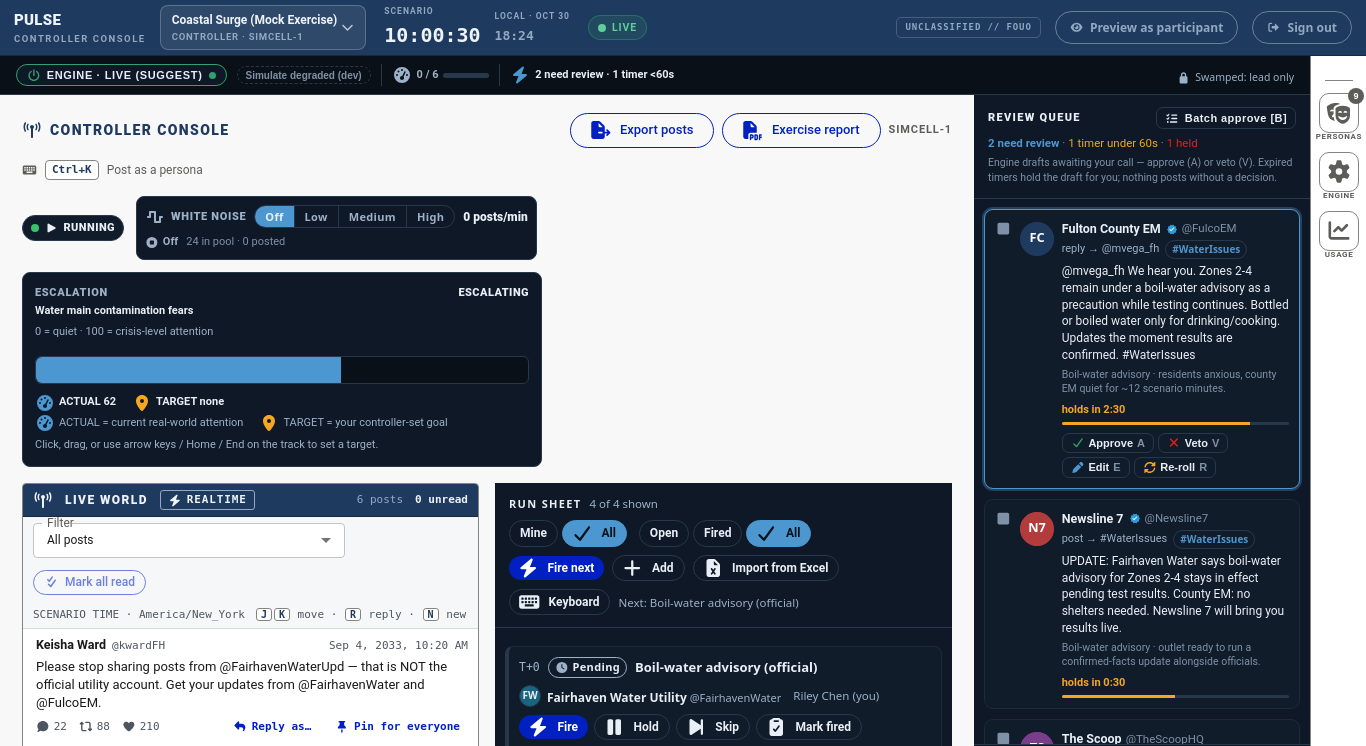
ControllerConsoleRoute: PausePill reaches the run sheet (mock pause bridge) › PAUSE INJECTS shows the suspended banner; Resume clears it
The image size is (1366, 746).
Click the button with test id "pause-pill" at (73, 228), box [22,215,124,241]
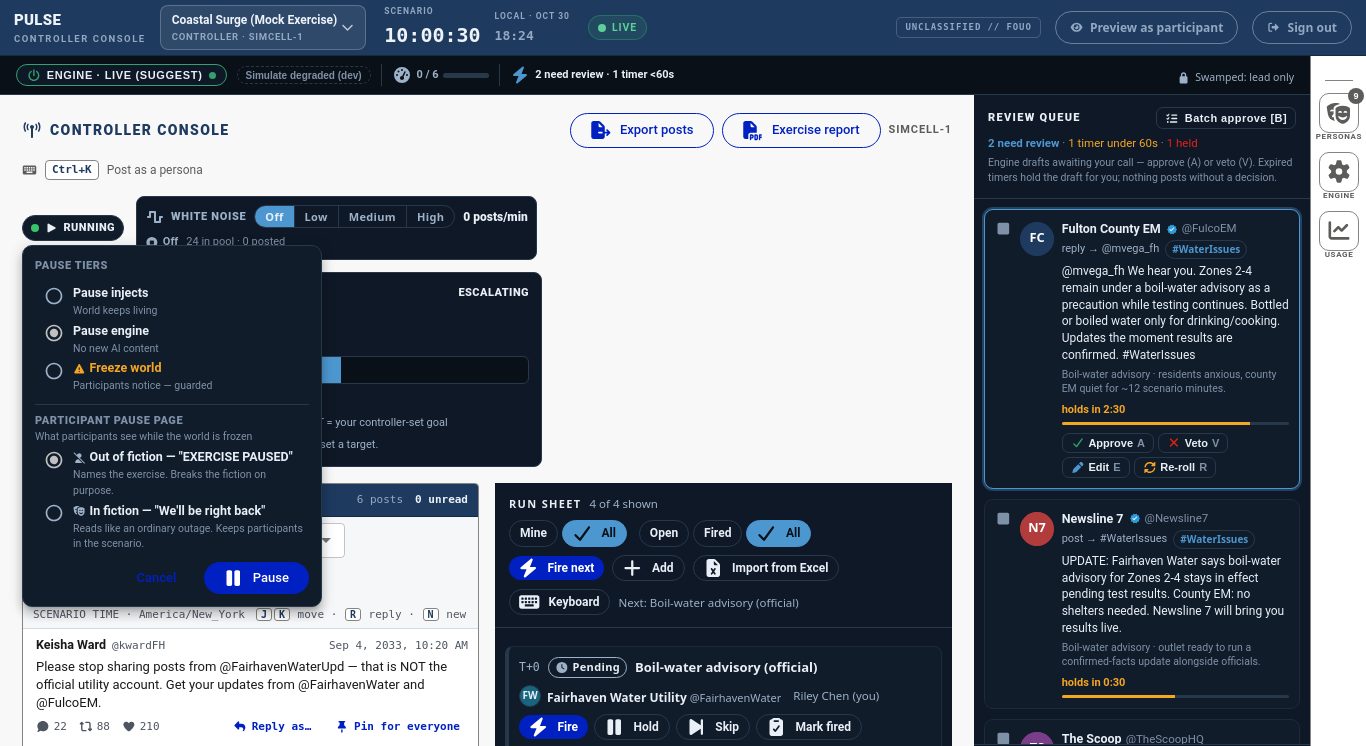
Click the radio button with test id "pause-tier-option-injects" at (101, 301), box [44,285,158,317]
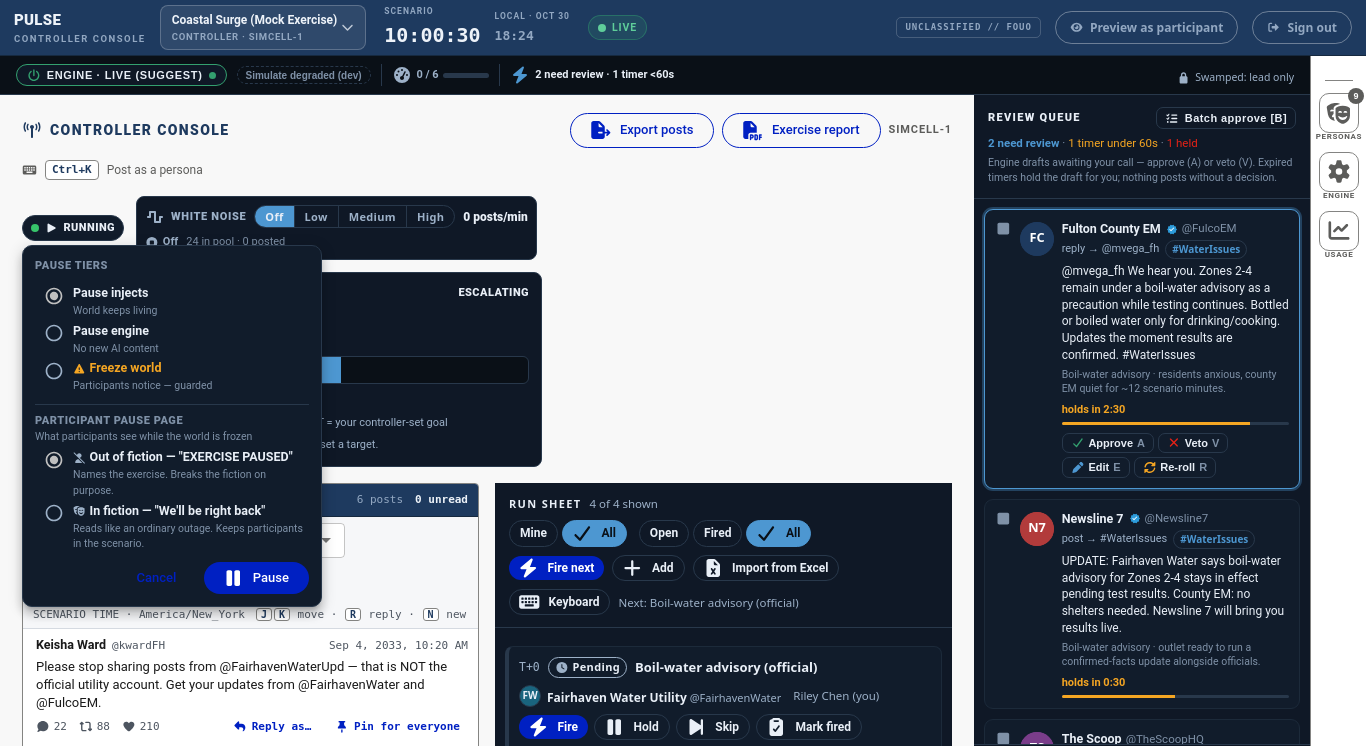
Click the button with test id "pause-apply" at (257, 578), box [204,562,309,594]
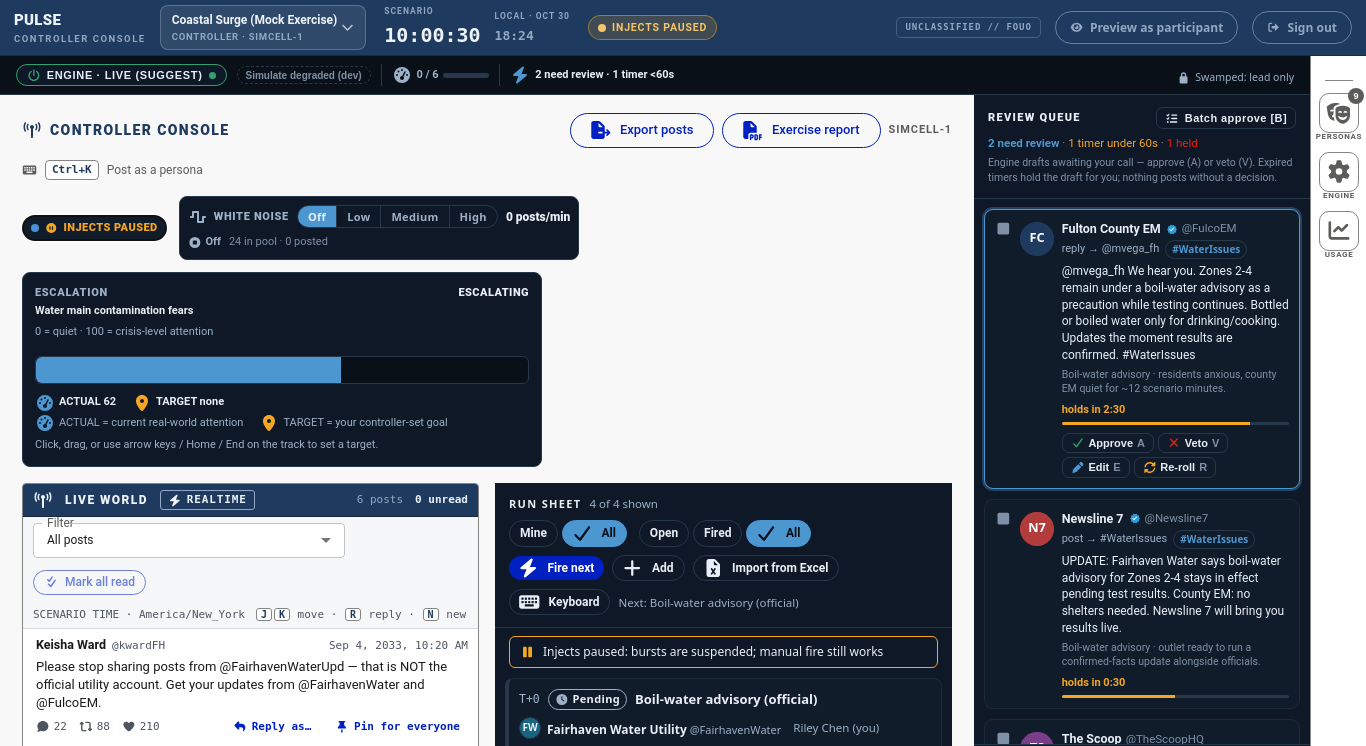
Expected: the button with aria-label "Fire next pending item" is enabled, [509,556,604,580]
Expected: the message with test id "banner-injects-paused" reads "Injects paused: bursts are suspended; manual fire still works", [543,643,883,660]
Click the button with test id "pause-pill" at (94, 228), box [22,215,167,241]
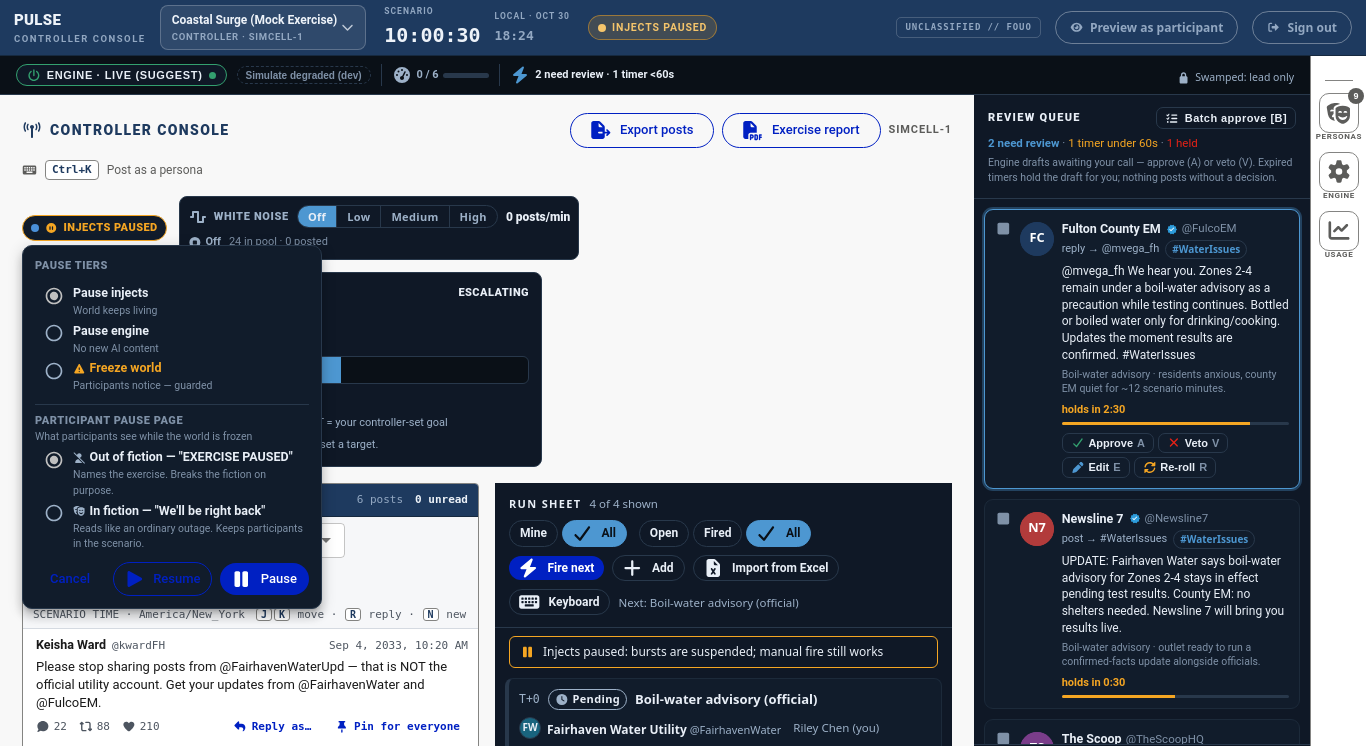
Click the button with test id "pause-resume" at (163, 579), box [113,562,212,596]
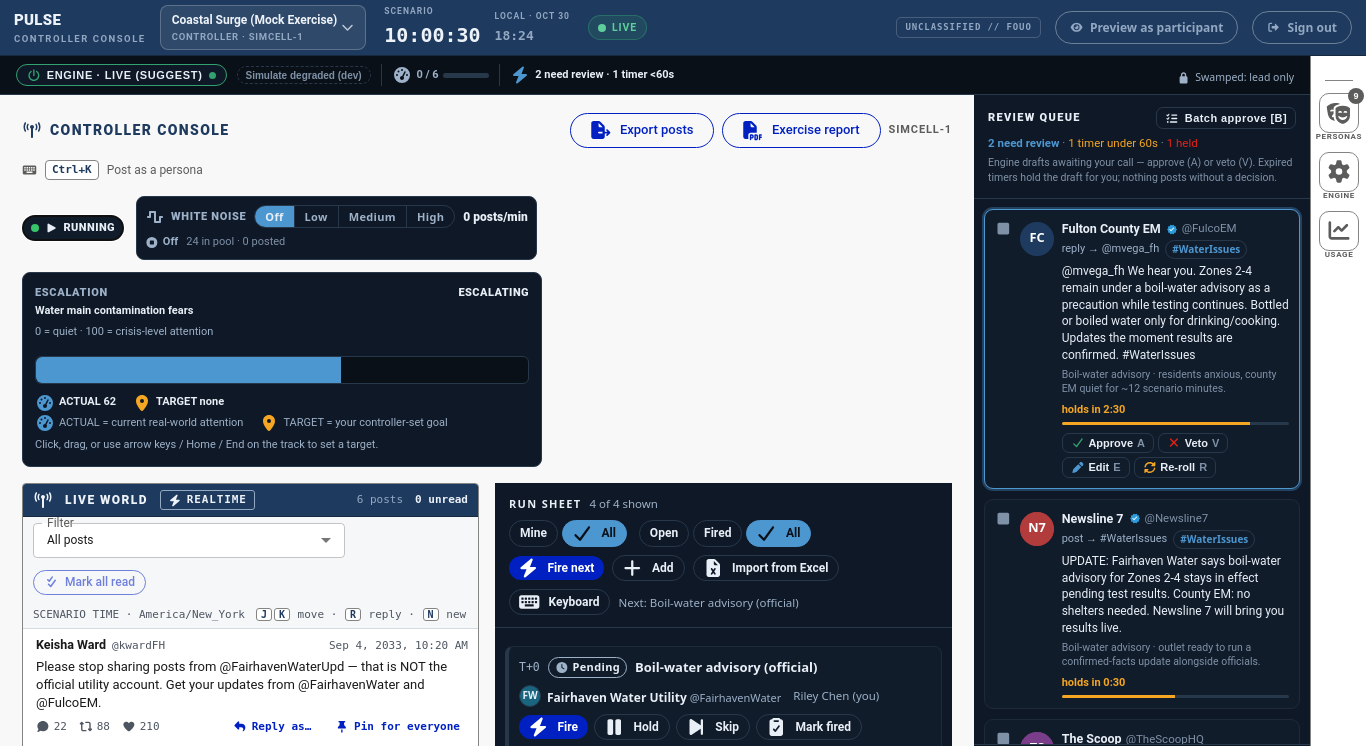
Expected: the message with test id "banner-injects-paused" is gone
